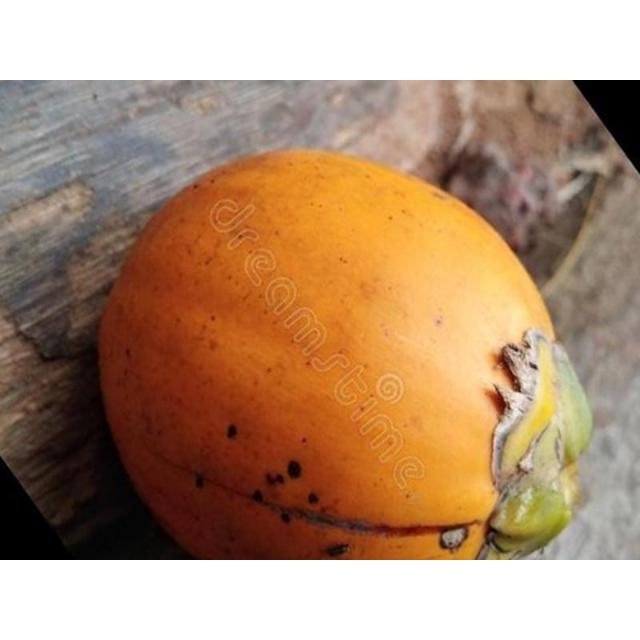good: (98, 150, 594, 559)
